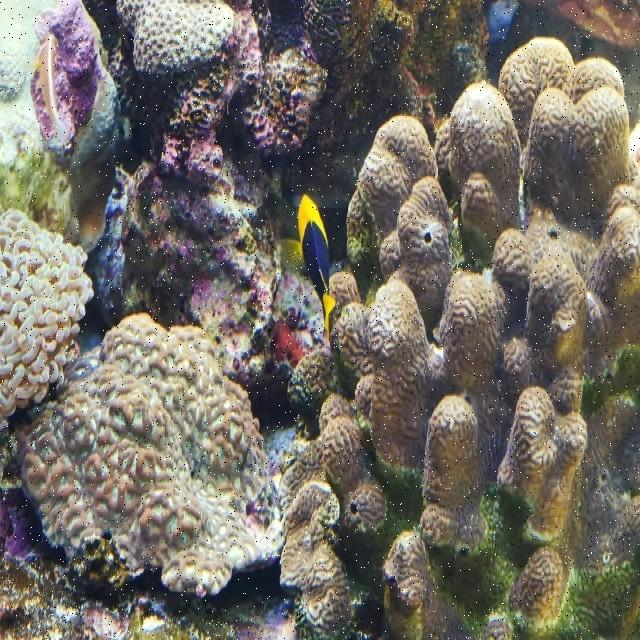fish: (274, 194, 335, 339)
reefs: (277, 37, 639, 639), (12, 312, 285, 598), (0, 0, 132, 253), (0, 208, 94, 430), (115, 0, 235, 80)
